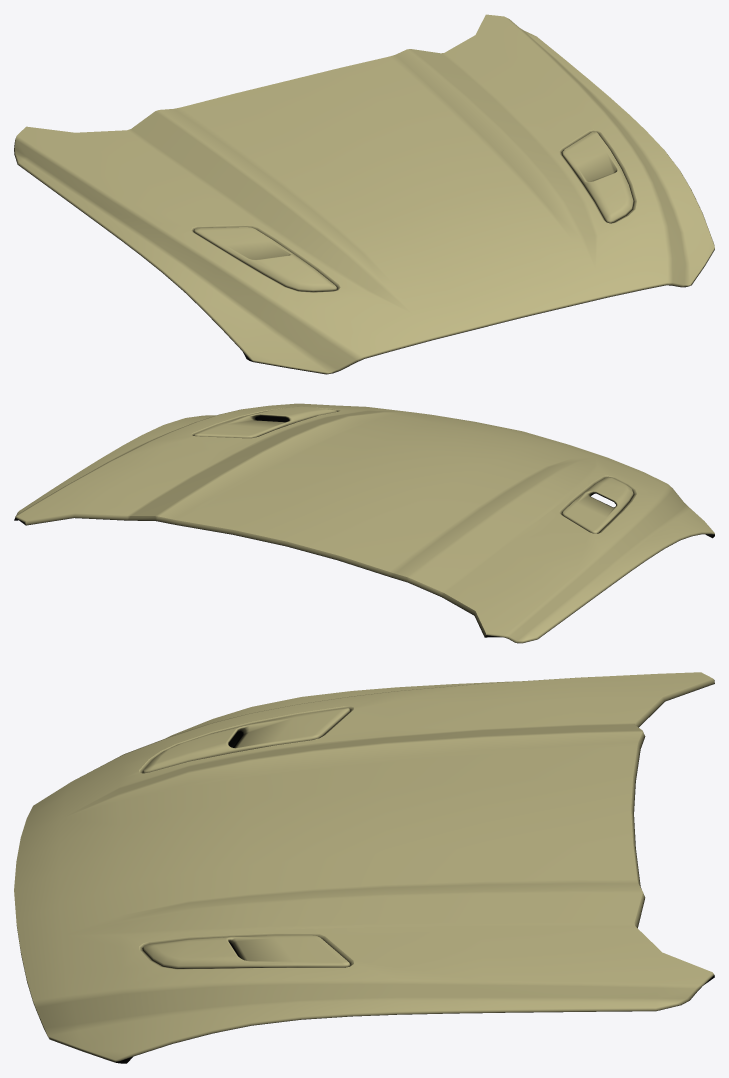
File: Mustang16_Hood_03_Duco.fbx
The picture shows the model from 3 angles, top to bottom: view 1: azimuth 30°, elevation 25°; view 2: azimuth 150°, elevation 25°; view 3: azimuth 270°, elevation 25°; orthographic projection. The views are drawn at different scales.
Parts seen in each view (by area): view 1: Mustang16_Hood_03_Duco; view 2: Mustang16_Hood_03_Duco; view 3: Mustang16_Hood_03_Duco.
Part boxes in pixels (bbox=[...]): Mustang16_Hood_03_Duco: bbox=[14, 14, 714, 374]; Mustang16_Hood_03_Duco: bbox=[14, 403, 714, 643]; Mustang16_Hood_03_Duco: bbox=[14, 672, 714, 1063].
Bounding box in the file's own units: 168 × 26.72 × 149.
